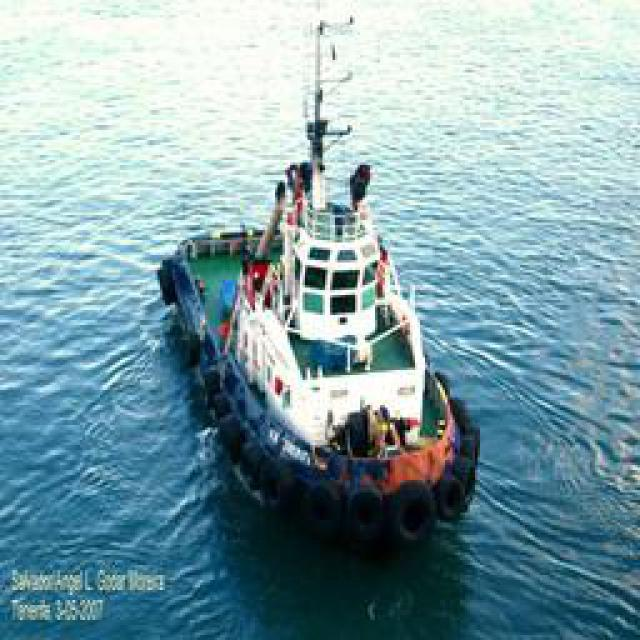Ship: (165, 28, 470, 566)
